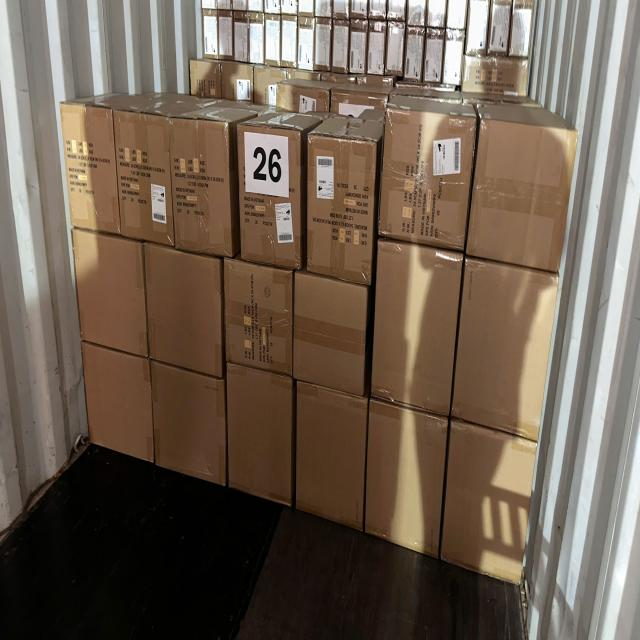Carton: (454, 256, 560, 439), (473, 117, 579, 271), (448, 418, 538, 586), (374, 242, 456, 416), (366, 398, 446, 569), (381, 102, 467, 251), (294, 378, 364, 536), (143, 242, 223, 380), (224, 360, 294, 512), (307, 130, 375, 285), (149, 356, 227, 491), (70, 228, 146, 359), (236, 122, 302, 270), (294, 267, 366, 401), (80, 340, 154, 470), (169, 111, 233, 259), (221, 258, 295, 380), (114, 106, 174, 249), (60, 101, 122, 238)
